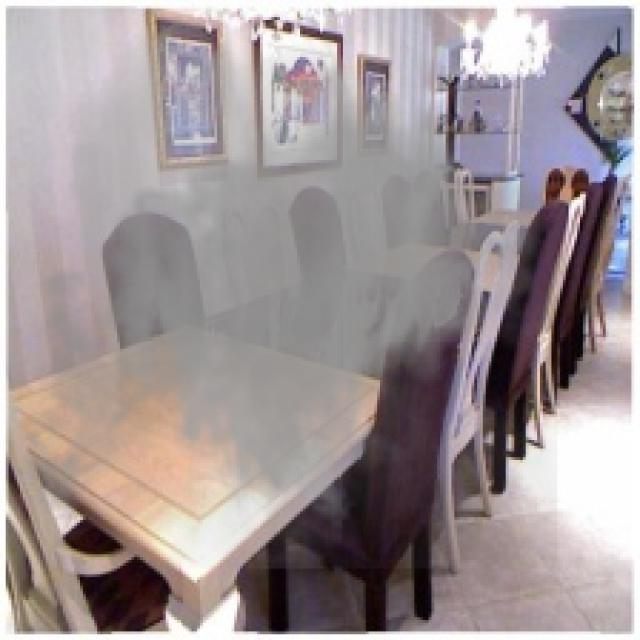smoke: (3, 11, 557, 568)
